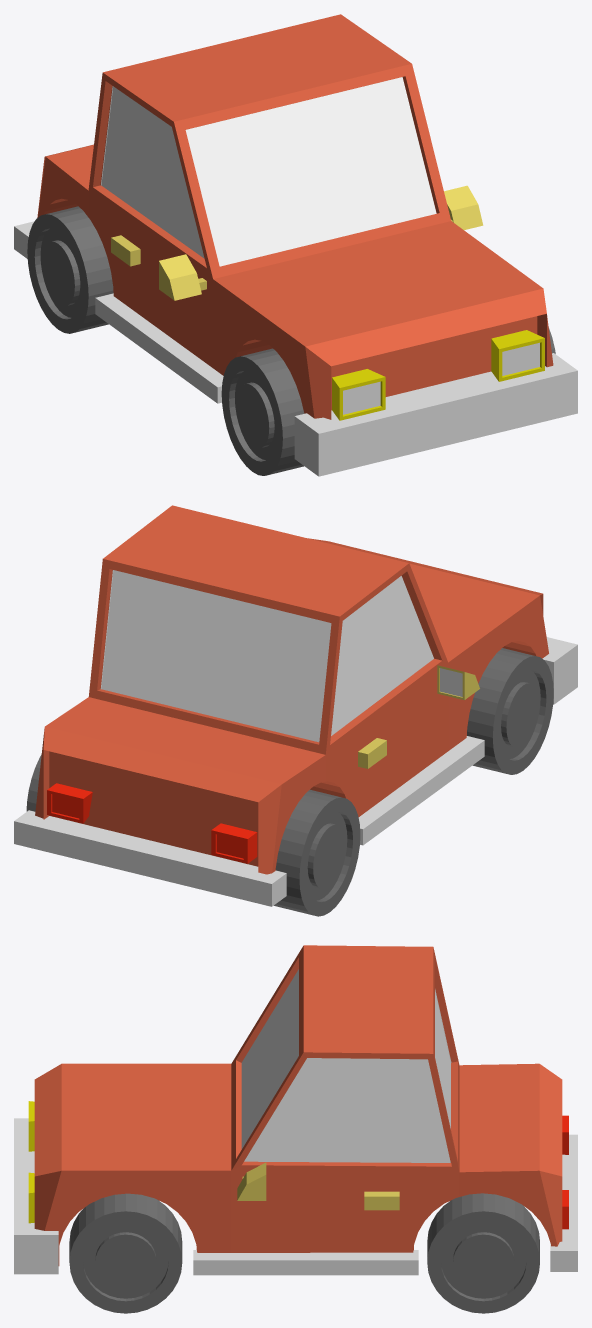
Rendered from cardemo.glb.
The picture shows the model from 3 angles, top to bottom: view 1: azimuth 30°, elevation 25°; view 2: azimuth 150°, elevation 25°; view 3: azimuth 270°, elevation 25°; orthographic projection. The views are drawn at different scales.
Visible parts, largest first — view 1: car body, bumperfront, wheel, headlights, step, sidemirror, doorhandles; view 2: car body, wheel, bumperback, step, backlights, bumperfront, sidemirror, doorhandles; view 3: car body, wheel, step, bumperfront, bumperback, sidemirror, doorhandles, headlights, backlights.
Part boxes in pixels (bbox=[...]): car body: bbox=[37, 14, 553, 419]; bumperfront: bbox=[294, 353, 577, 476]; wheel: bbox=[27, 206, 555, 475]; headlights: bbox=[332, 330, 544, 420]; step: bbox=[95, 293, 223, 403]; sidemirror: bbox=[159, 185, 483, 300]; doorhandles: bbox=[111, 235, 140, 266]; car body: bbox=[35, 505, 548, 874]; wheel: bbox=[26, 648, 553, 916]; bumperback: bbox=[14, 810, 286, 906]; step: bbox=[358, 736, 484, 845]; backlights: bbox=[47, 783, 257, 863]; bumperfront: bbox=[542, 637, 577, 704]; sidemirror: bbox=[437, 665, 479, 700]; doorhandles: bbox=[358, 738, 386, 768]; car body: bbox=[34, 945, 562, 1265]; wheel: bbox=[69, 1193, 539, 1313]; step: bbox=[193, 1250, 418, 1275]; bumperfront: bbox=[14, 1118, 58, 1274]; bumperback: bbox=[550, 1134, 577, 1271]; sidemirror: bbox=[237, 1162, 266, 1200]; doorhandles: bbox=[364, 1191, 399, 1210]; headlights: bbox=[28, 1101, 34, 1223]; backlights: bbox=[562, 1115, 568, 1229].
Size of what is drawn, in the model's own units: 3.11 by 2.65 by 5.34.
